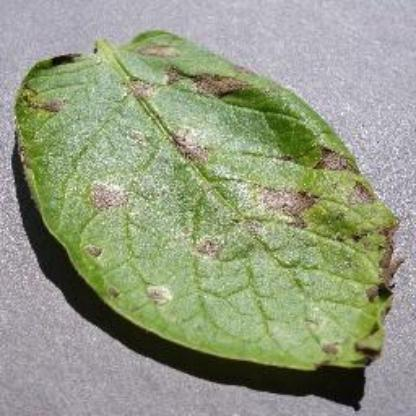Early-Blight: (16, 26, 404, 378)
